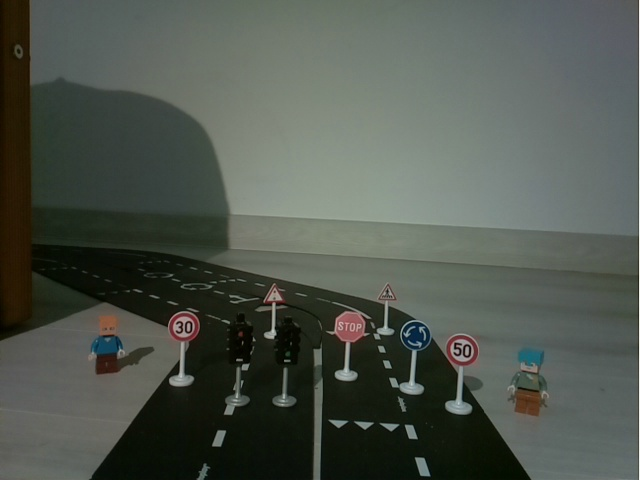green light: (275, 325, 303, 413)
limit 30: (163, 309, 202, 393)
limit 50: (443, 331, 481, 420)
pedestrian sign: (376, 282, 398, 340)
person: (84, 312, 135, 382)
red light: (225, 317, 256, 412)
round: (399, 317, 433, 401)
second person: (504, 342, 553, 422)
stop: (331, 307, 367, 389)
traffic light sign: (263, 282, 285, 322)
